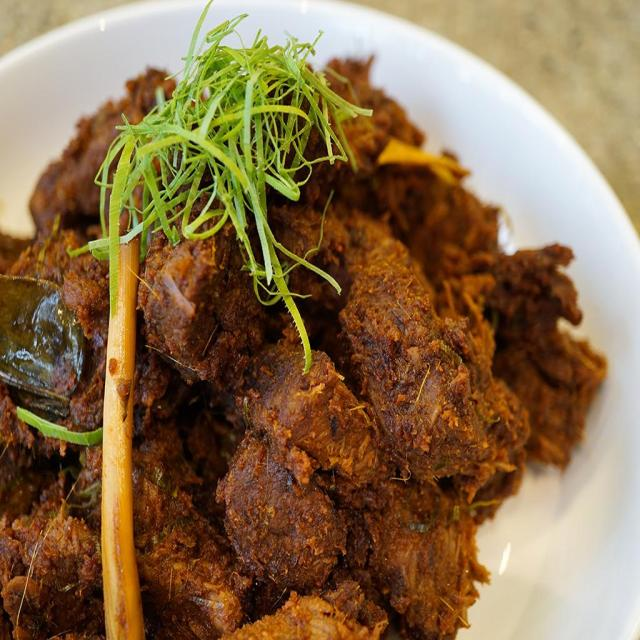Rendang: (0, 43, 609, 640)
